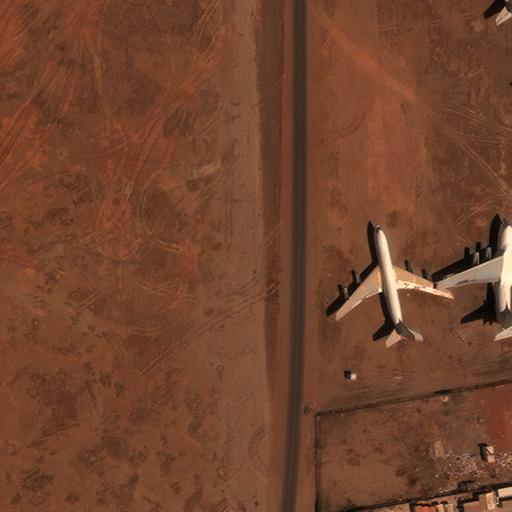Large Civil Transport: (335, 223, 451, 338)
Military Transport: (437, 218, 512, 337)
